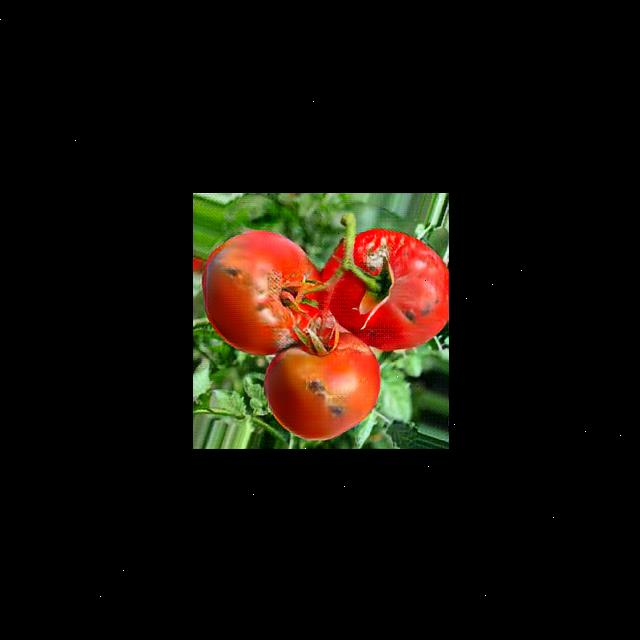tomato: (323, 229, 448, 351), (200, 228, 316, 351), (262, 337, 381, 438)
